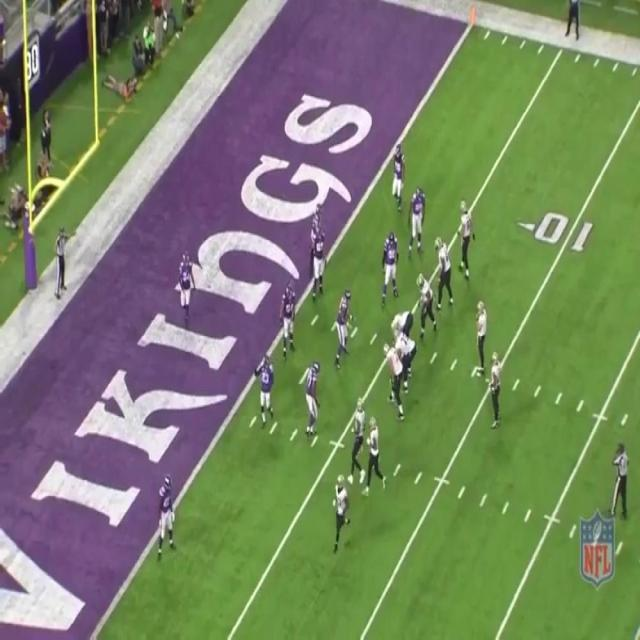center: (389, 306, 414, 338)
db: (157, 476, 176, 553), (257, 357, 277, 419), (178, 249, 196, 311), (391, 141, 407, 201), (312, 204, 322, 230)
lb: (278, 285, 300, 352), (312, 233, 331, 290)
qb: (477, 302, 488, 364)
